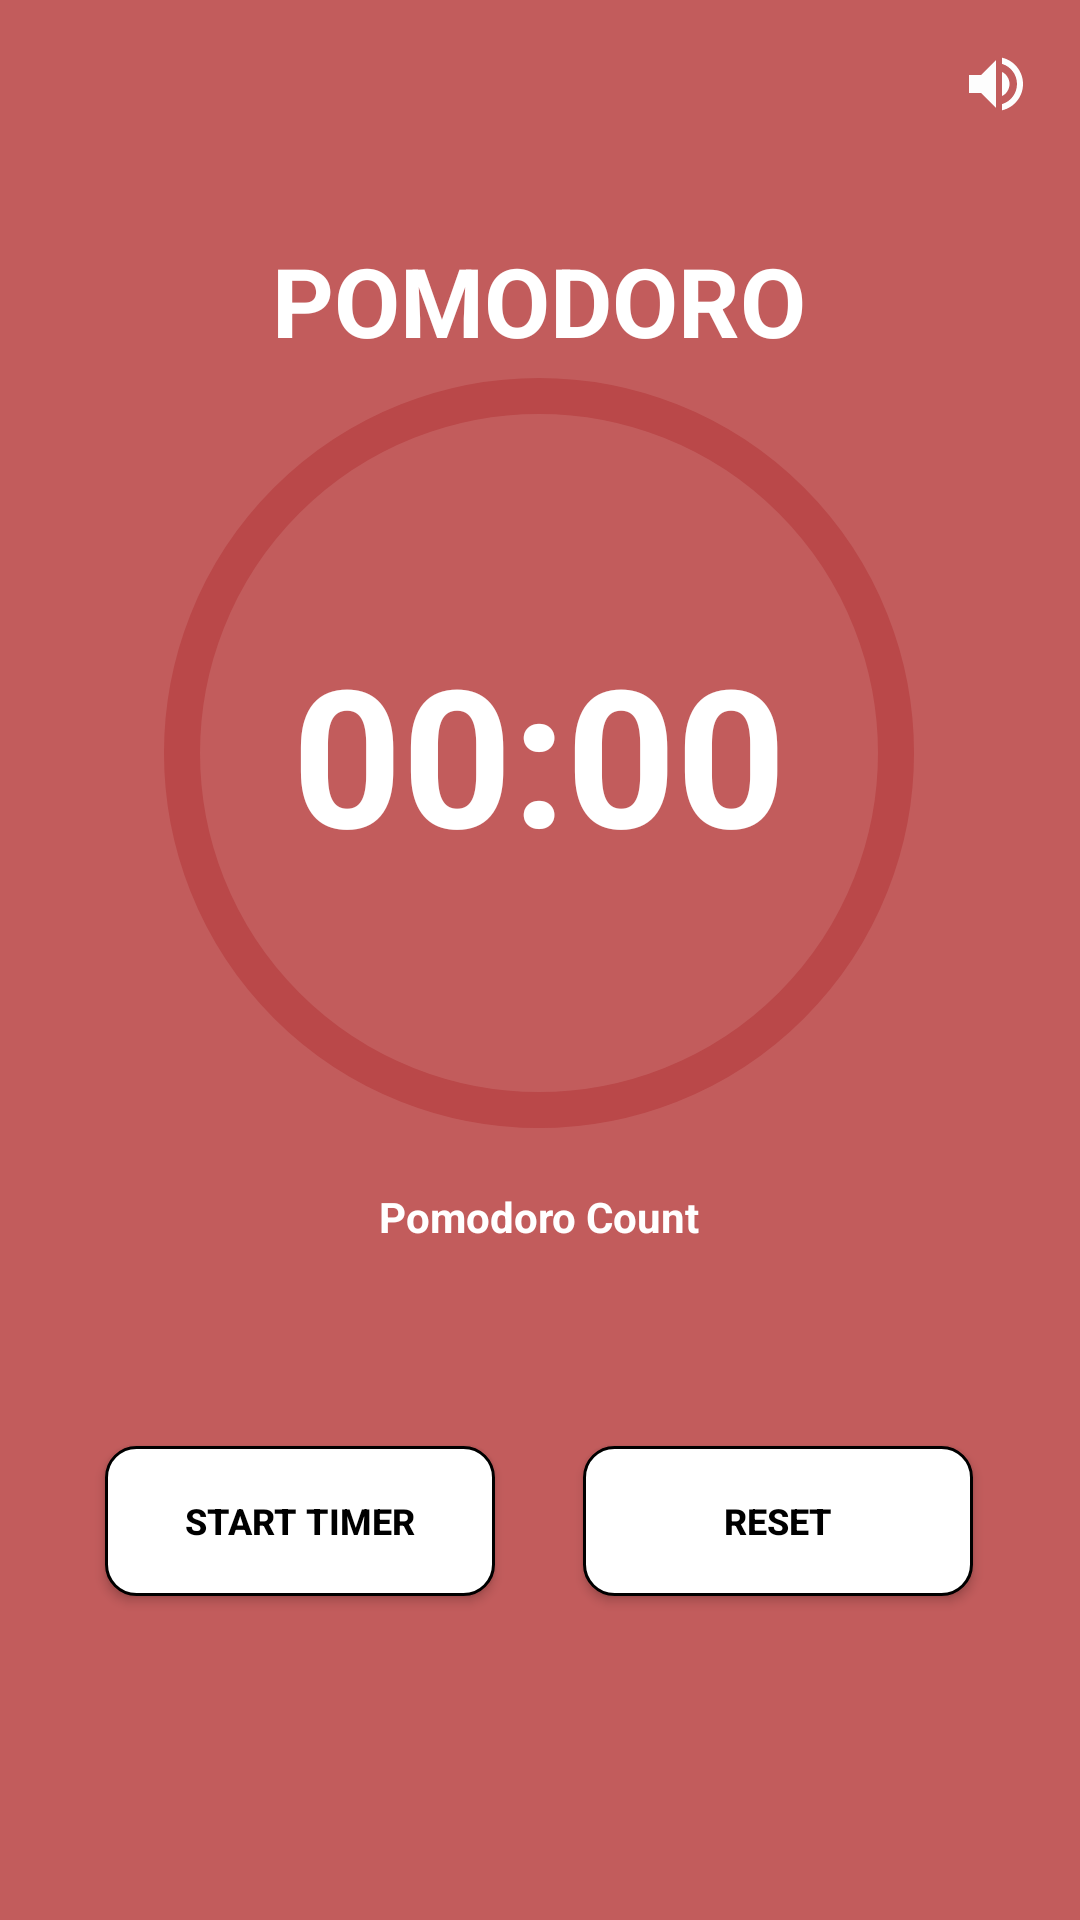

Point at icon controls on the screen. Image size 1080x1920, points as (x,y).
volume up: (996,84)
